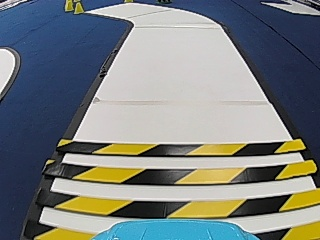bump: (78, 139, 292, 227)
